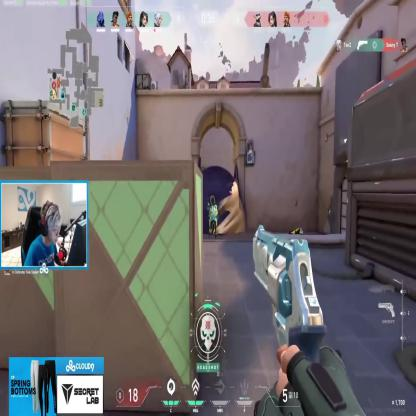enemy: (207, 194, 218, 241)
enemy_head: (211, 198, 214, 206)
